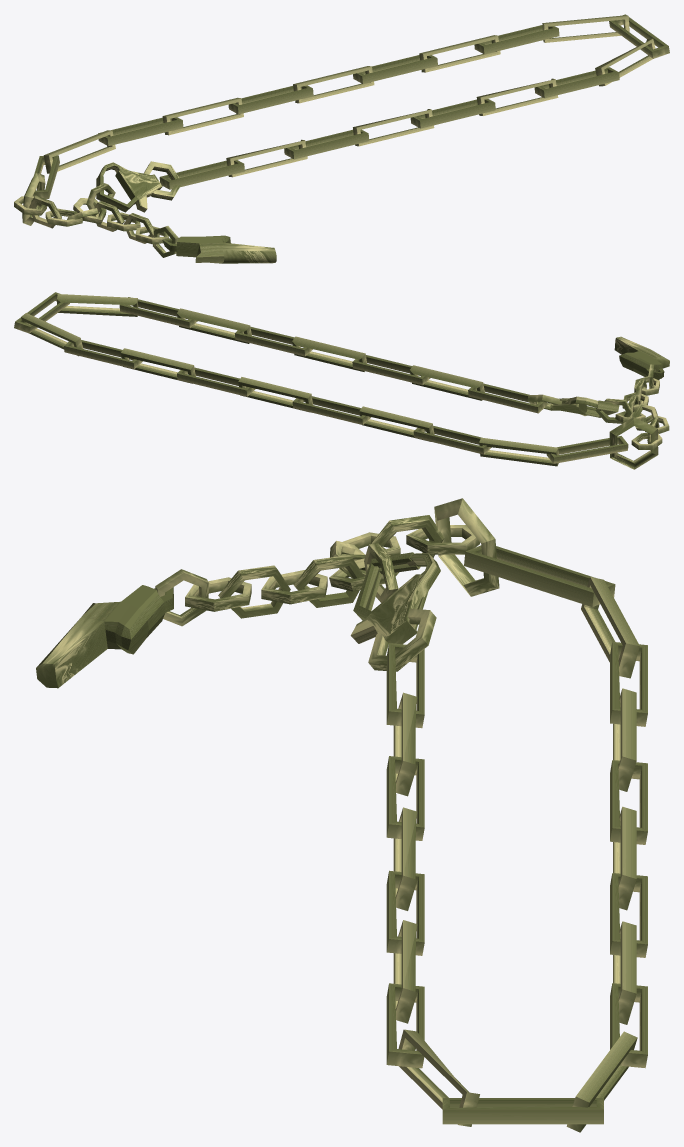
Rendered from Audrinaanklet.fbx.
3 views of the same model, one above another, from view 1: azimuth 30°, elevation 25°; view 2: azimuth 150°, elevation 25°; view 3: azimuth 270°, elevation 25° (orthographic). The views are drawn at different scales.
Parts seen in each view (by area): view 1: lighting1, pCube1, Audrinaankletchain60, Audrinaankletchain62, Audrinaankletchain52, Audrinaankletchain58, Audrinaankletchain38, Audrinaankletchain48, Audrinaankletchain54, Audrinaankletchain56, Audrinaankletchain40, Audrinaankletchain57 (+13 smaller); view 2: lighting1, Audrinaankletchain51, Audrinaankletchain39, Audrinaankletchain50, Audrinaankletchain59, Audrinaankletchain47, Audrinaankletchain61, Audrinaankletchain37, Audrinaankletchain52, Audrinaankletchain62, Audrinaankletchain53, Audrinaankletchain48 (+13 smaller); view 3: lighting1, Audrinaankletchain40, Audrinaankletchain50, pCube1, Audrinaankletchain20, Audrinaankletchain51, Audrinaankletchain57, Audrinaankletchain39, Audrinaankletchain47, Audrinaankletchain38, Audrinaankletchain59, Audrinaankletchain53 (+20 smaller).
Part boxes in pixels (x1,y1,x2,y2): lighting1: [162, 235, 276, 263]; pCube1: [96, 168, 162, 212]; Audrinaankletchain60: [284, 129, 369, 159]; Audrinaankletchain62: [159, 160, 244, 189]; Audrinaankletchain52: [228, 85, 313, 114]; Audrinaankletchain58: [410, 99, 495, 128]; Audrinaankletchain38: [534, 67, 619, 98]; Audrinaankletchain48: [98, 117, 183, 146]; Audrinaankletchain54: [353, 55, 437, 83]; Audrinaankletchain56: [474, 25, 559, 54]; Audrinaankletchain40: [609, 14, 669, 58]; Audrinaankletchain57: [542, 15, 629, 42]; lighting1: [614, 336, 669, 379]; Audrinaankletchain51: [479, 437, 558, 466]; Audrinaankletchain39: [57, 294, 138, 316]; Audrinaankletchain50: [546, 436, 628, 463]; Audrinaankletchain59: [292, 336, 367, 371]; Audrinaankletchain47: [359, 406, 434, 441]; Audrinaankletchain61: [409, 365, 484, 400]; Audrinaankletchain37: [177, 308, 251, 343]; Audrinaankletchain52: [292, 396, 371, 424]; Audrinaankletchain62: [468, 383, 547, 413]; Audrinaankletchain53: [238, 377, 313, 412]; Audrinaankletchain48: [413, 426, 491, 454]; lighting1: [36, 585, 173, 688]; Audrinaankletchain40: [442, 1098, 603, 1124]; Audrinaankletchain50: [464, 545, 615, 606]; pCube1: [353, 552, 428, 644]; Audrinaankletchain20: [434, 498, 499, 596]; Audrinaankletchain51: [581, 577, 639, 678]; Audrinaankletchain57: [566, 1031, 637, 1132]; Audrinaankletchain39: [398, 1029, 479, 1126]; Audrinaankletchain47: [613, 688, 636, 791]; Audrinaankletchain38: [386, 983, 424, 1068]; Audrinaankletchain59: [393, 807, 417, 910]; Audrinaankletchain53: [613, 806, 636, 910].
Size of the model in its own units: 0.5018 by 0.0403 by 0.2201.
